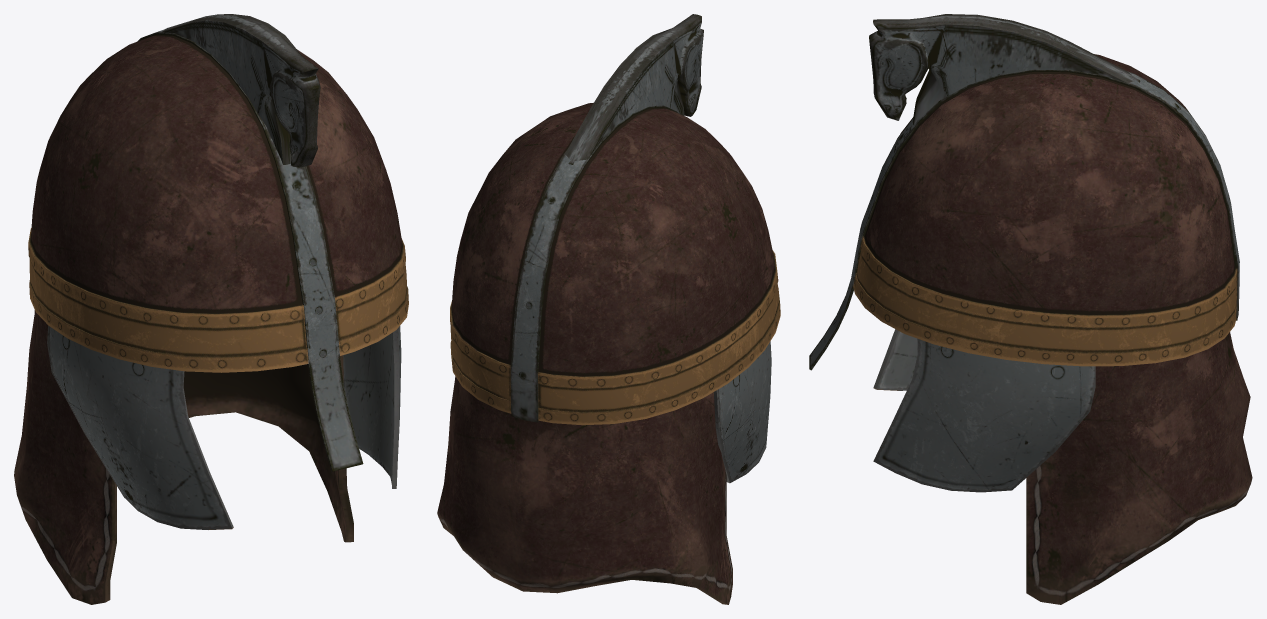
The model's file is cts_rohan_helmet1.fbx.
3 renders of one model, left to right at view 1: azimuth 30°, elevation 25°; view 2: azimuth 150°, elevation 25°; view 3: azimuth 270°, elevation 25°, orthographic. The views are drawn at different scales.
Visible parts, largest first — view 1: cts_rohan_helmet1; view 2: cts_rohan_helmet1; view 3: cts_rohan_helmet1.
Part boxes in pixels (x1,y1,x2,y2): cts_rohan_helmet1: (14,14,408,604); cts_rohan_helmet1: (437,14,780,604); cts_rohan_helmet1: (809,14,1252,604).
Bounding box in the file's own units: 0.1923 × 0.2631 × 0.3448.
Materials: 1 (1 with a texture image).
